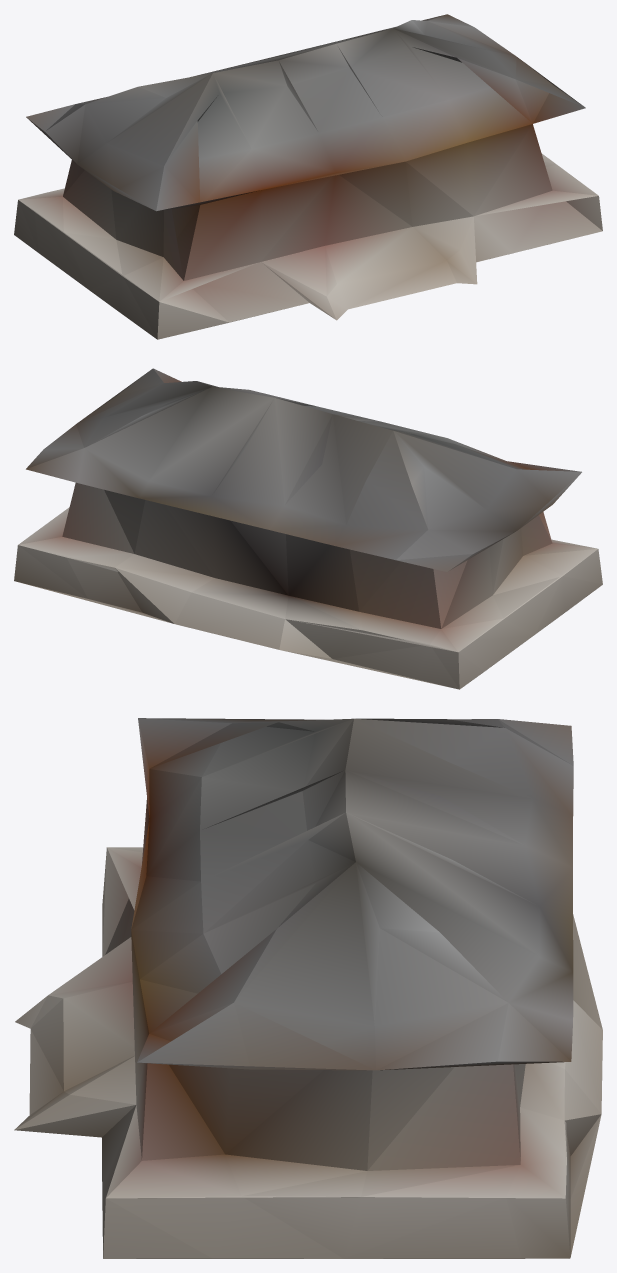
The model's file is hall_lod2.glb.
The picture shows the model from 3 angles, top to bottom: view 1: azimuth 30°, elevation 25°; view 2: azimuth 150°, elevation 25°; view 3: azimuth 270°, elevation 25°; orthographic projection. The views are drawn at different scales.
Visible parts, largest first — view 1: geometry_0; view 2: geometry_0; view 3: geometry_0.
Boxes of the visible parts, x1=… form: geometry_0: x1=14, y1=14, x2=602, y2=339; geometry_0: x1=14, y1=368, x2=602, y2=689; geometry_0: x1=14, y1=718, x2=602, y2=1258.
Bounding box in the file's own units: 0.9726 × 0.3756 × 0.682.
